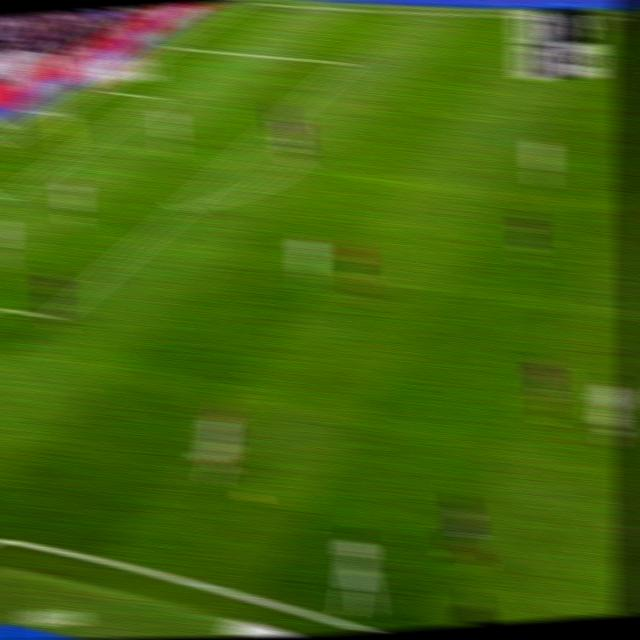bigarea_bottom_inner: (0, 186, 17, 207)
bigarea_top_inner: (337, 53, 359, 72)
bigarea_top_outter: (160, 37, 182, 54)
bottom_arc_area_intersection: (171, 195, 196, 220)
halfcircle_bottom: (618, 184, 638, 222)
smallarea_bottom_inner: (0, 186, 17, 207)
smallarea_top_inner: (149, 91, 168, 105)
